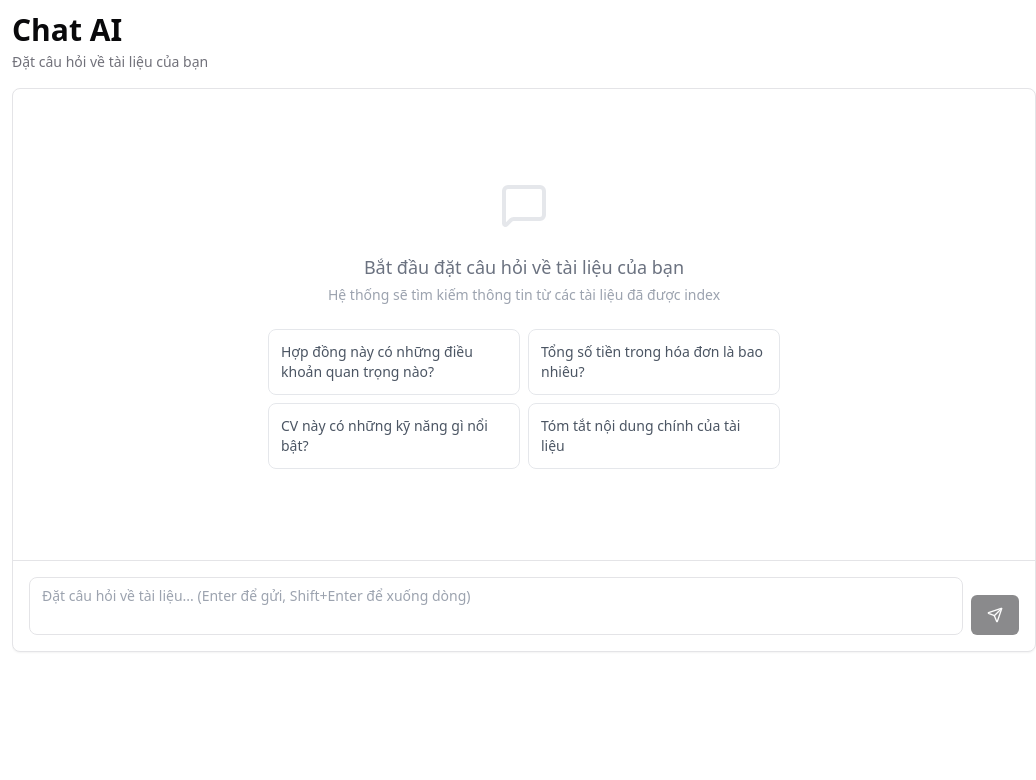
ChatPage › shows user message after sending
Replace the text in the text box named "nhập câu hỏi" with "Hợp đồng này là gì?" at (496,606), box [29,577,963,635]
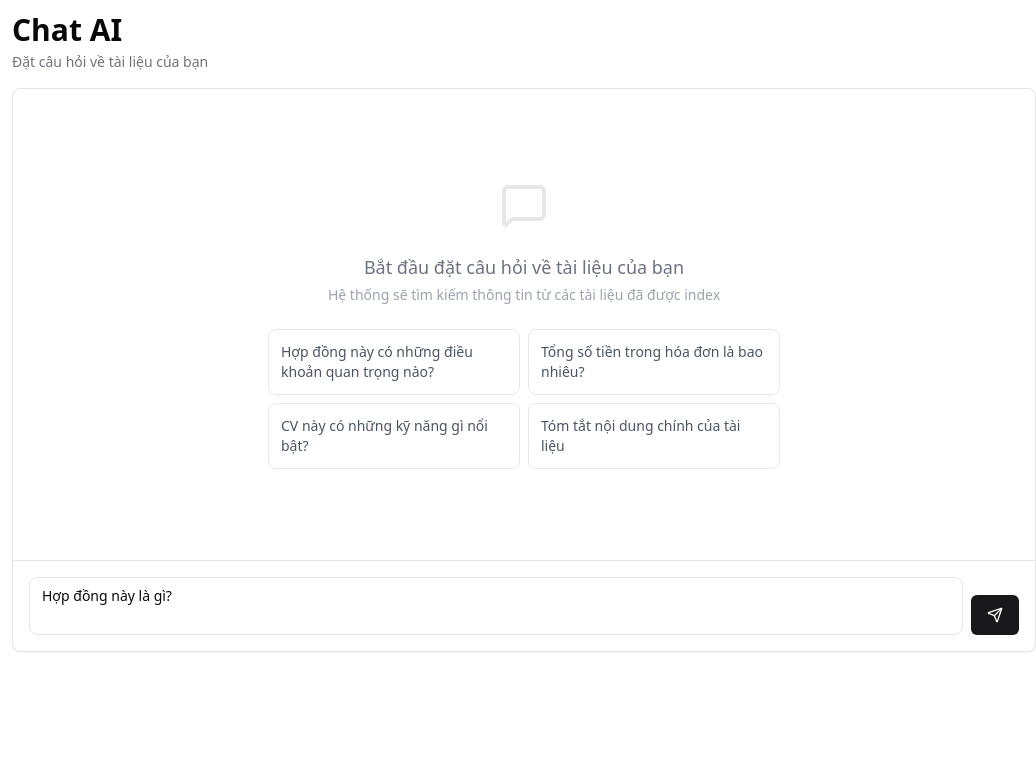
Click the button named "gửi tin nhắn".
click(995, 615)  # box [971,595,1019,635]
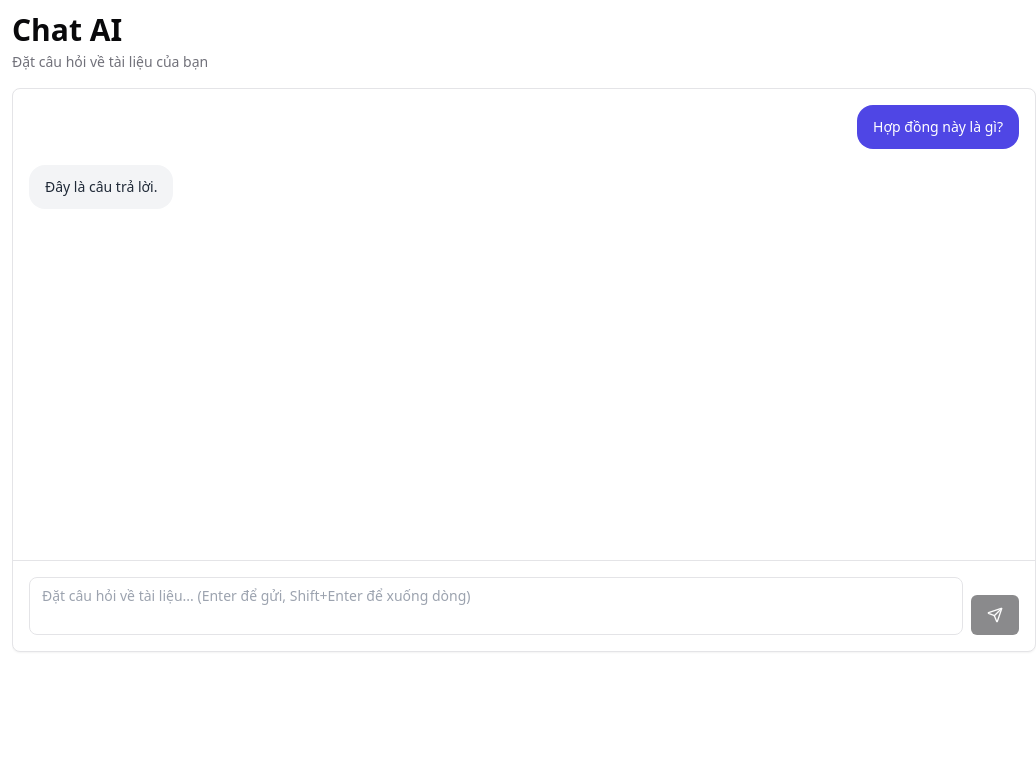
Expected: the text "Hợp đồng này là gì?" is shown, [873,117,1003,137]
